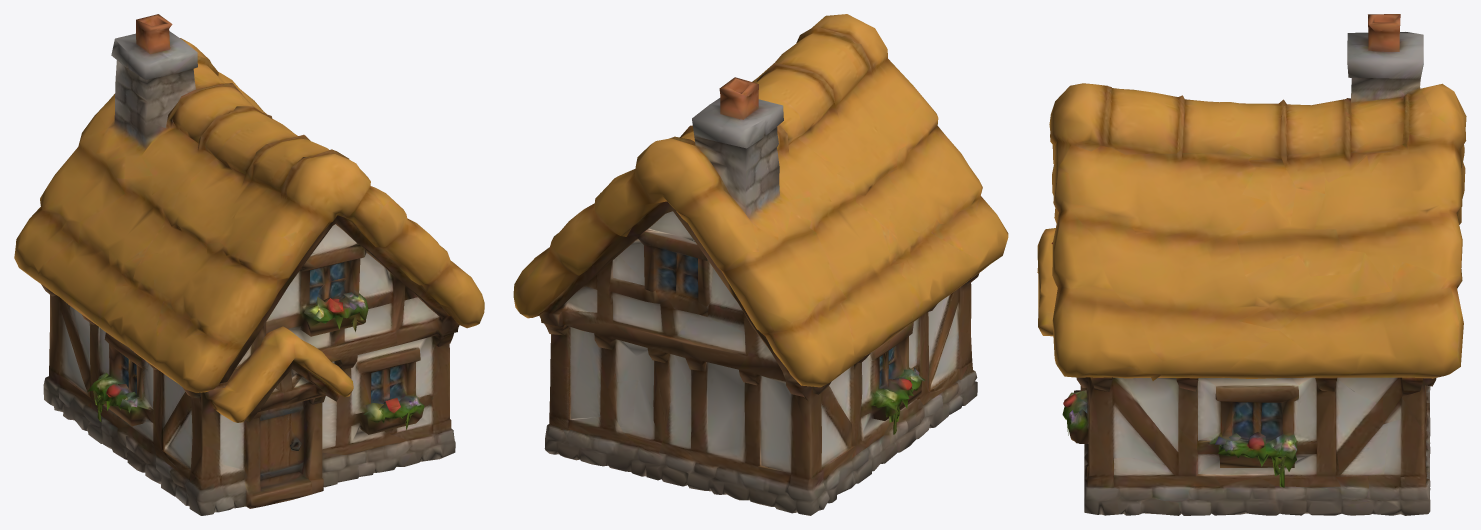
Rendered from village-cottage.glb.
The picture shows the model from 3 angles, left to right: view 1: azimuth 30°, elevation 25°; view 2: azimuth 150°, elevation 25°; view 3: azimuth 270°, elevation 25°; orthographic projection. The views are drawn at different scales.
Parts seen in each view (by area): view 1: village-cottage; view 2: village-cottage; view 3: village-cottage.
Part boxes in pixels (bbox=[...]): village-cottage: bbox=[14, 14, 484, 515]; village-cottage: bbox=[513, 14, 1008, 515]; village-cottage: bbox=[1037, 14, 1466, 515].
Bounding box in the file's own units: 5.9 × 7 × 6.64.
1 material, 1 textured.
